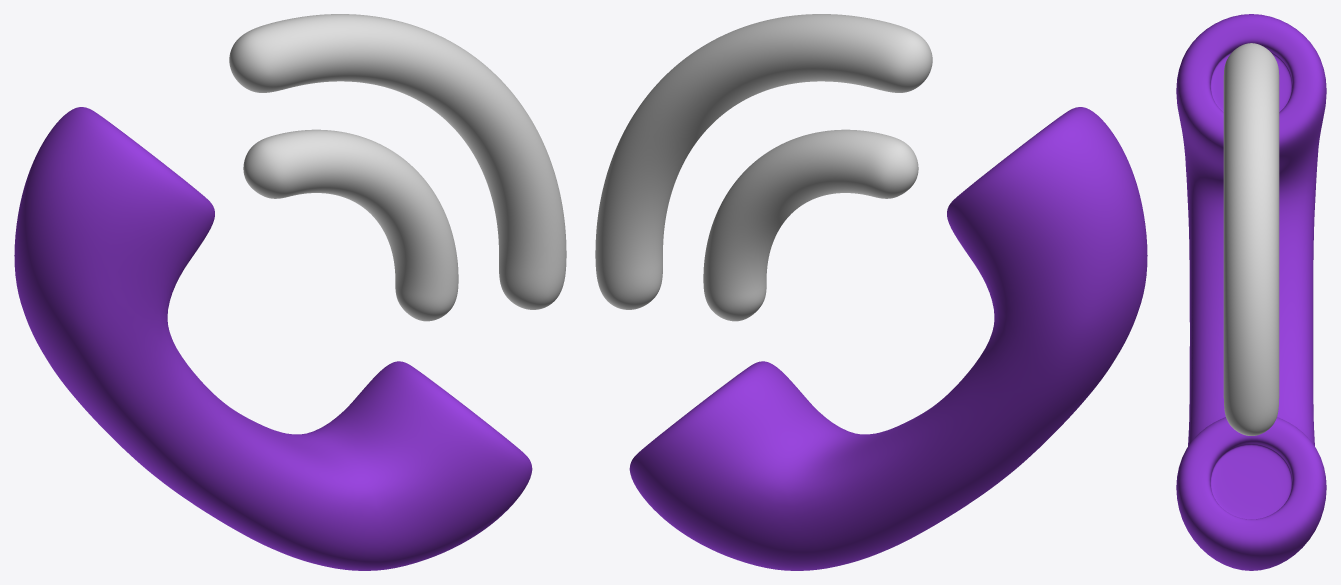
File: call-ringing.glb
The picture shows the model from 3 angles, left to right: view 1: azimuth 30°, elevation 25°; view 2: azimuth 150°, elevation 25°; view 3: azimuth 270°, elevation 25°; orthographic projection. The views are drawn at different scales.
Visible parts, largest first — view 1: Phone Ring; view 2: Phone Ring; view 3: Phone Ring.
Boxes of the visible parts, x1,y1,x2,y2 form: Phone Ring: (14,14,566,570); Phone Ring: (595,14,1147,570); Phone Ring: (1176,14,1326,570).
Size of the model in its own units: 1.93 by 1.93 by 0.5744.
